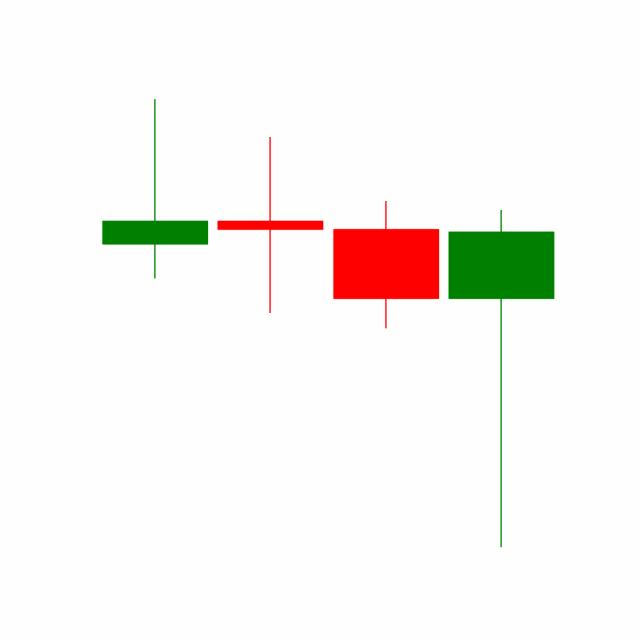Hammer: (443, 205, 559, 550)
